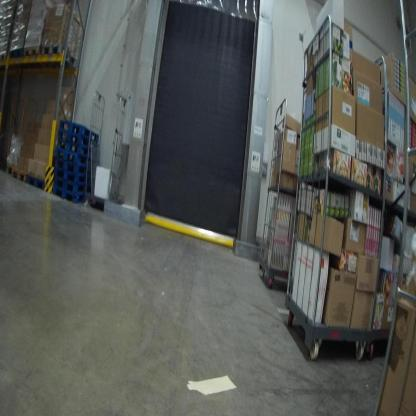pallet: (42, 40, 77, 70), (59, 119, 99, 143), (54, 157, 96, 179), (55, 130, 98, 150), (54, 146, 96, 164), (22, 43, 47, 73), (53, 184, 92, 203), (55, 138, 95, 156), (53, 166, 94, 183), (53, 179, 94, 195), (11, 44, 32, 75), (26, 172, 46, 190), (11, 166, 28, 183)
